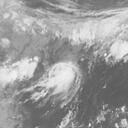cyclone: (48, 61, 78, 96)
